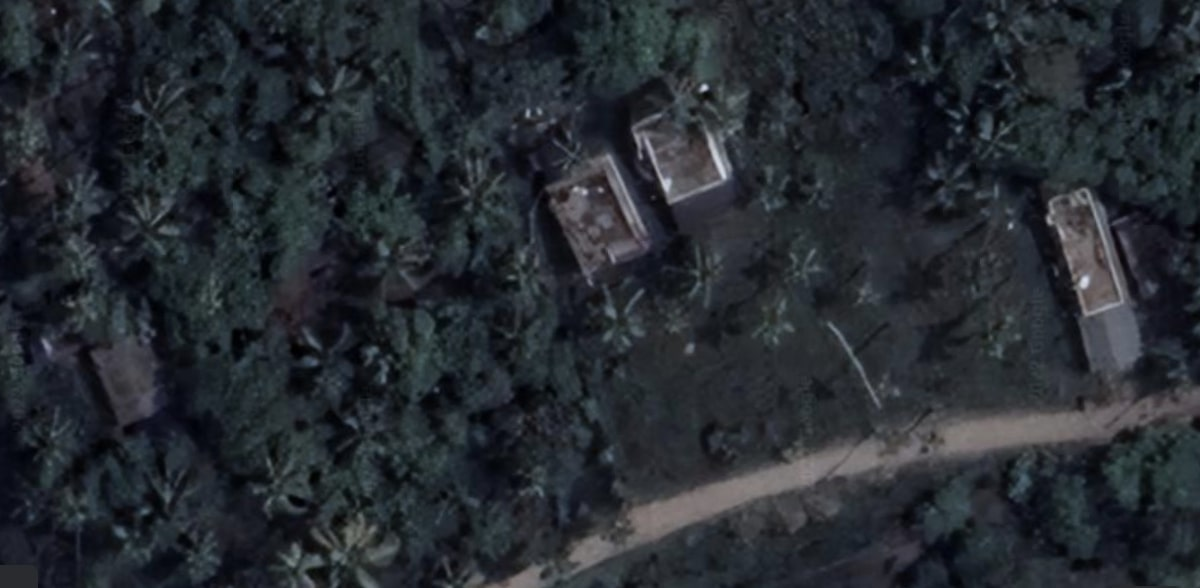coconut: (306, 511, 392, 588), (279, 326, 355, 386), (115, 77, 186, 139), (914, 144, 975, 214), (590, 287, 654, 352), (115, 194, 179, 259), (236, 455, 309, 510), (358, 230, 423, 289), (451, 161, 509, 226), (304, 75, 366, 126), (262, 539, 319, 588), (748, 292, 797, 348), (748, 163, 792, 214), (774, 250, 818, 292), (802, 176, 835, 213)
